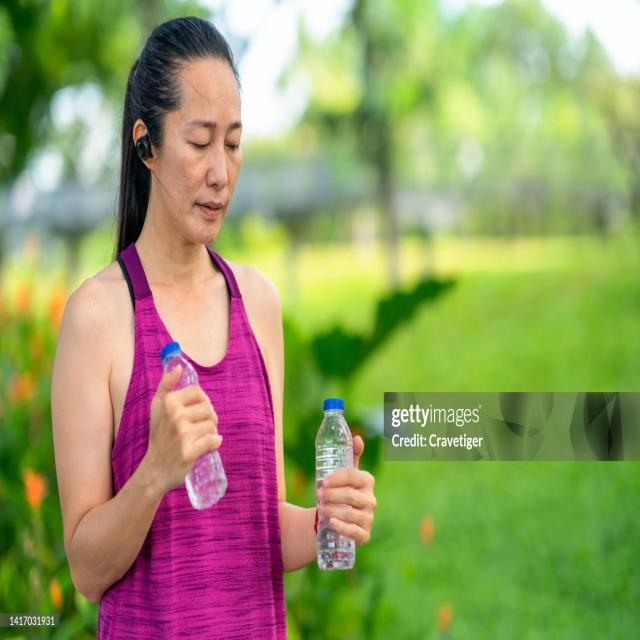bottle: (160, 338, 229, 512), (310, 398, 357, 571)
